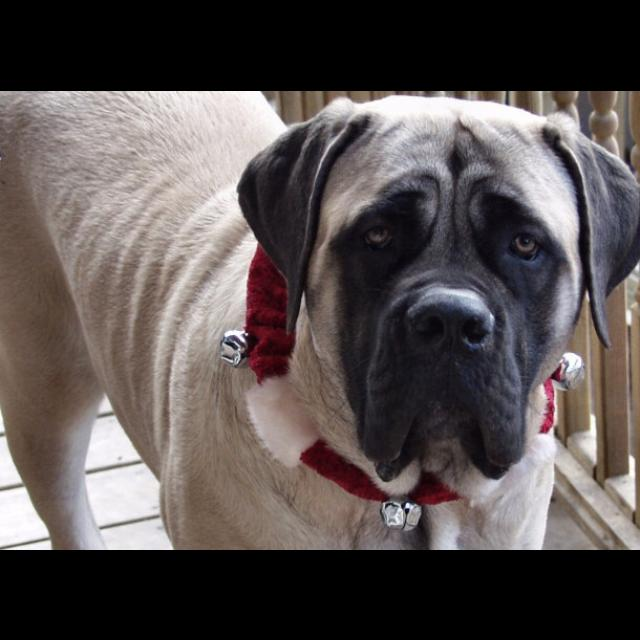mastiff: (1, 91, 639, 549)
